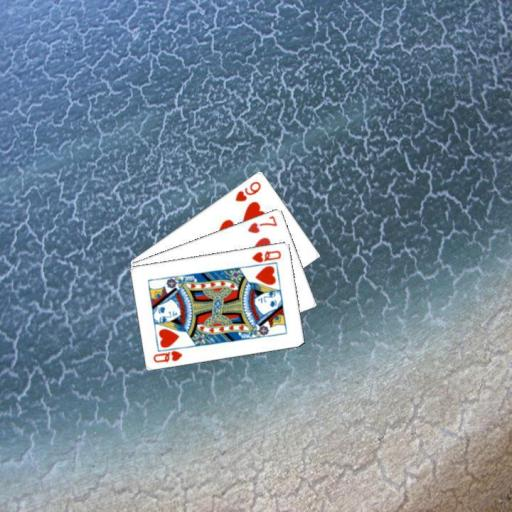7H: (245, 212, 279, 235)
9H: (232, 178, 262, 203)
QH: (150, 343, 187, 364), (249, 247, 283, 264)
